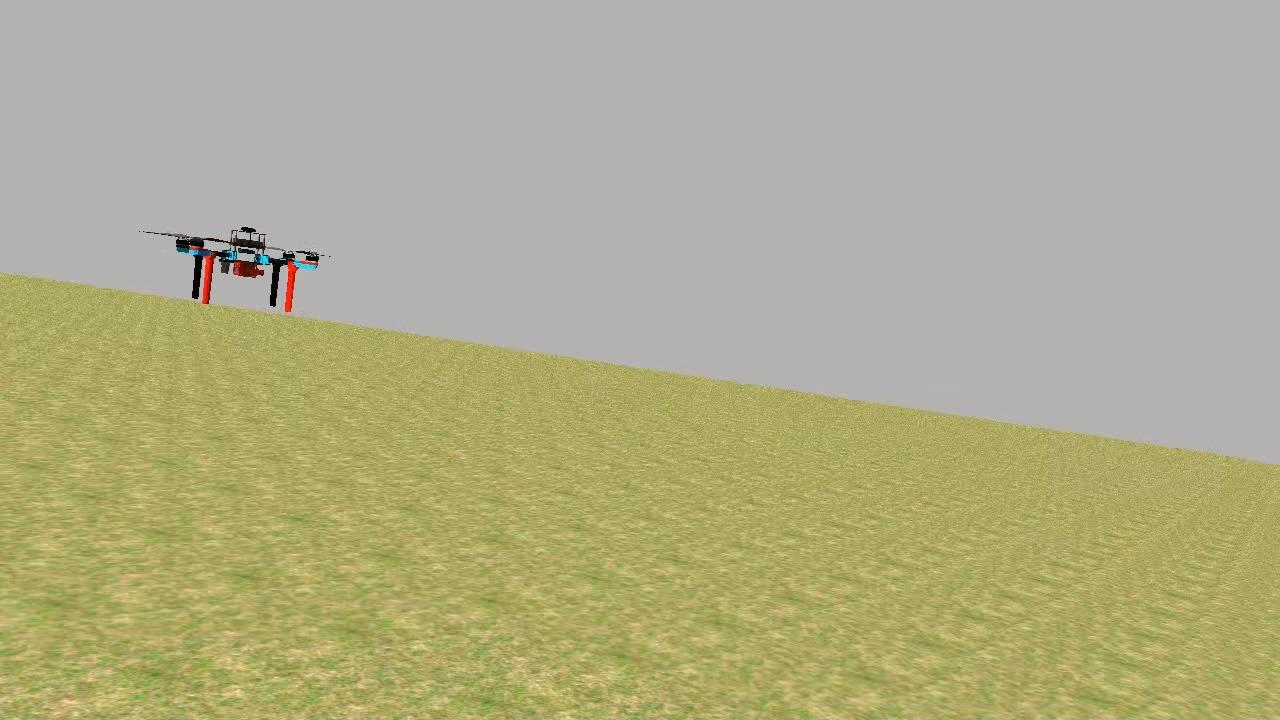UAV: (166, 217, 323, 322)
